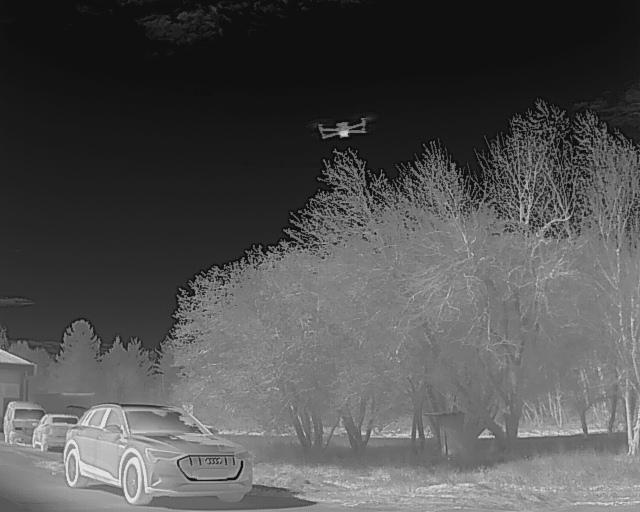drone: (303, 108, 382, 145)
